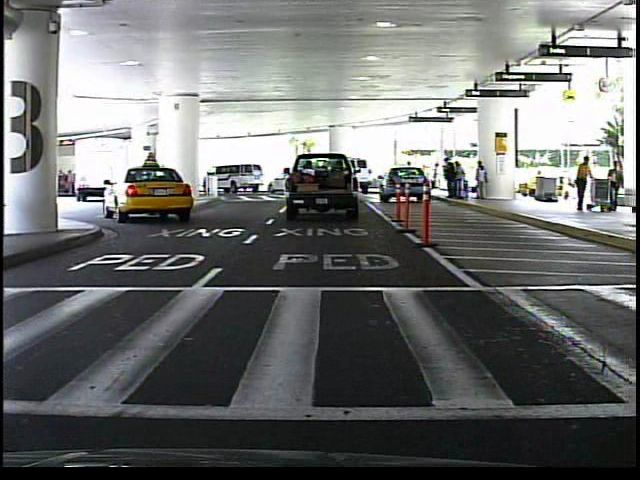person: (570, 153, 595, 216), (605, 157, 627, 214), (403, 158, 419, 193)
